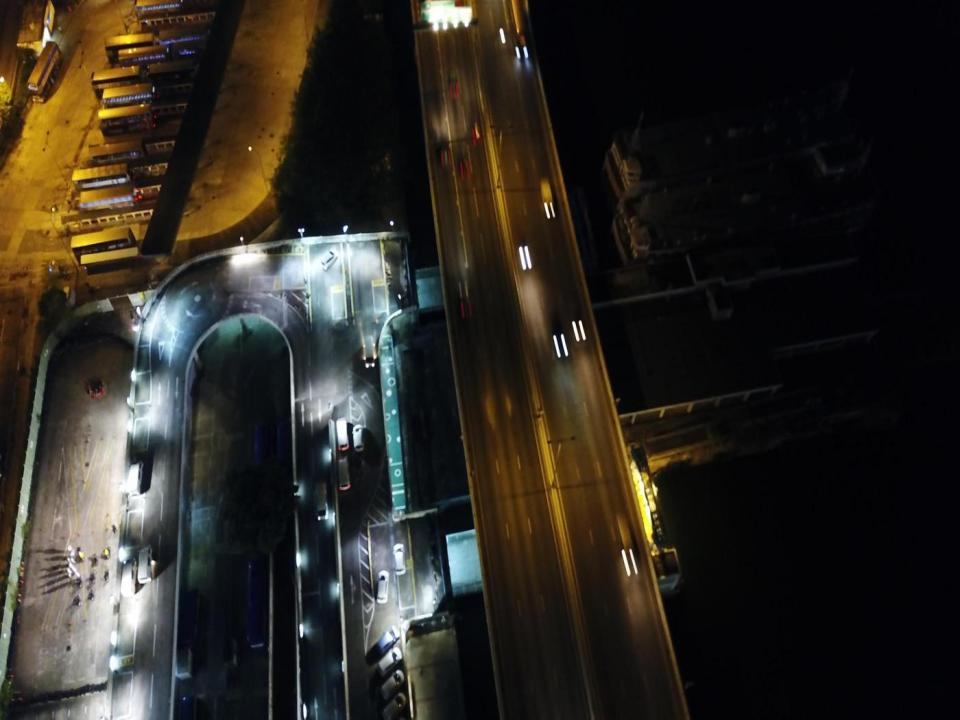bus: (71, 228, 136, 263), (27, 41, 63, 103), (244, 553, 264, 648), (98, 103, 153, 137), (73, 162, 134, 192), (78, 189, 142, 214), (90, 66, 140, 96), (102, 85, 157, 111), (119, 47, 168, 75), (182, 588, 203, 649), (253, 419, 270, 494), (158, 29, 212, 52), (105, 35, 154, 60), (148, 62, 198, 86), (168, 41, 210, 68), (275, 420, 292, 483), (132, 0, 185, 18)
car: (376, 646, 402, 679), (380, 670, 405, 700), (377, 627, 399, 653), (383, 692, 406, 716), (376, 570, 389, 606), (568, 299, 583, 330), (393, 543, 406, 577), (513, 35, 529, 60), (352, 423, 364, 453), (439, 137, 452, 164), (550, 313, 563, 340), (458, 280, 468, 310), (448, 69, 459, 96), (459, 153, 469, 177), (518, 231, 527, 256), (471, 118, 481, 140)
truck: (540, 179, 552, 207)
van: (121, 558, 137, 597), (137, 544, 152, 584), (128, 460, 144, 495), (315, 481, 328, 521), (336, 414, 349, 451), (338, 455, 350, 490), (363, 334, 374, 368), (322, 248, 338, 270)
